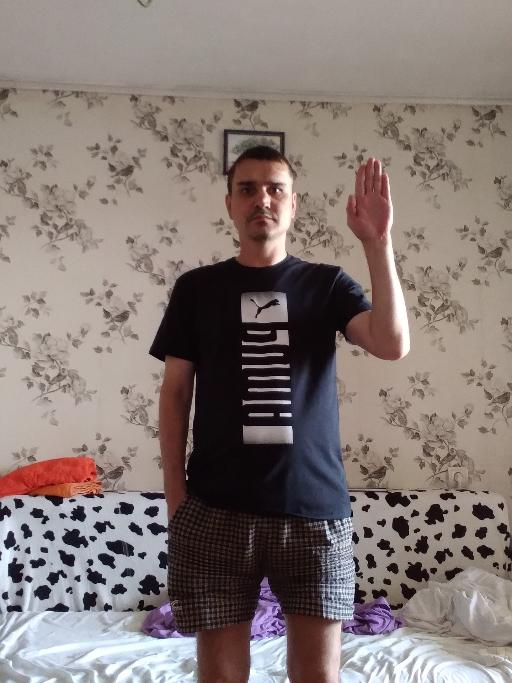stop: (343, 154, 397, 247)
